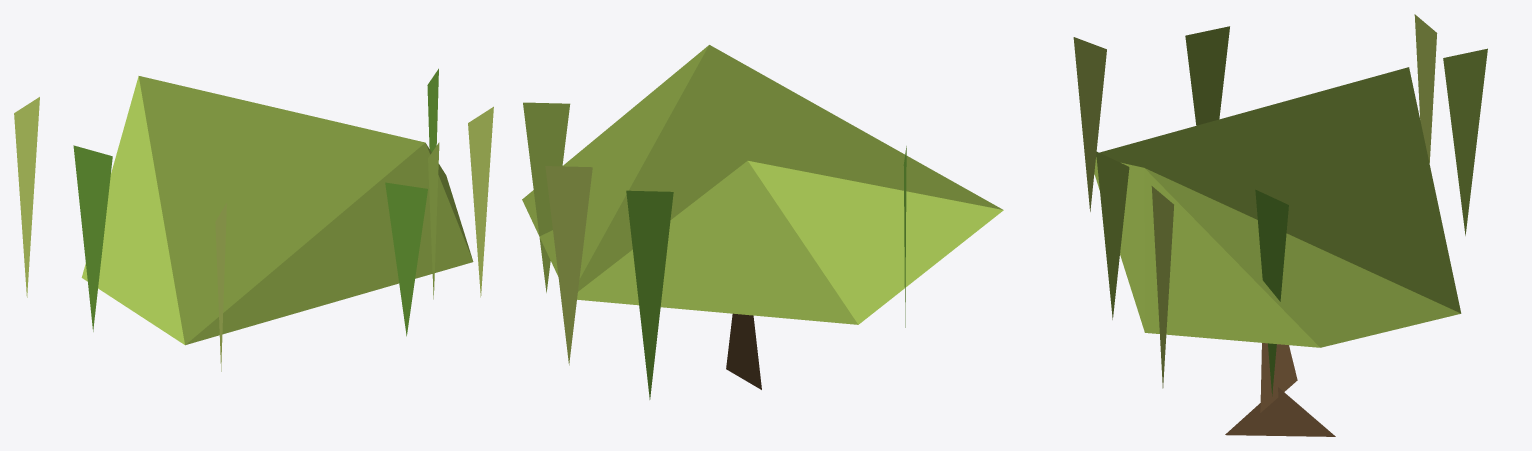
The model's file is tree_willow_4_lod2.glb.
3 renders of one model, left to right at view 1: azimuth 30°, elevation 25°; view 2: azimuth 150°, elevation 25°; view 3: azimuth 270°, elevation 25°, orthographic. The views are drawn at different scales.
Visible parts, largest first — view 1: tree_willow_4_lod2; view 2: tree_willow_4_lod2; view 3: tree_willow_4_lod2.
Part boxes in pixels (x1,y1,x2,y2): tree_willow_4_lod2: [14, 68, 493, 371]; tree_willow_4_lod2: [522, 45, 1003, 399]; tree_willow_4_lod2: [1073, 14, 1487, 436].
Bounding box in the file's own units: 6 × 4.67 × 6.11.
